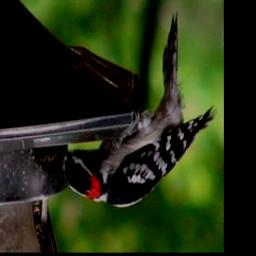Woodpecker: (54, 10, 218, 210)
